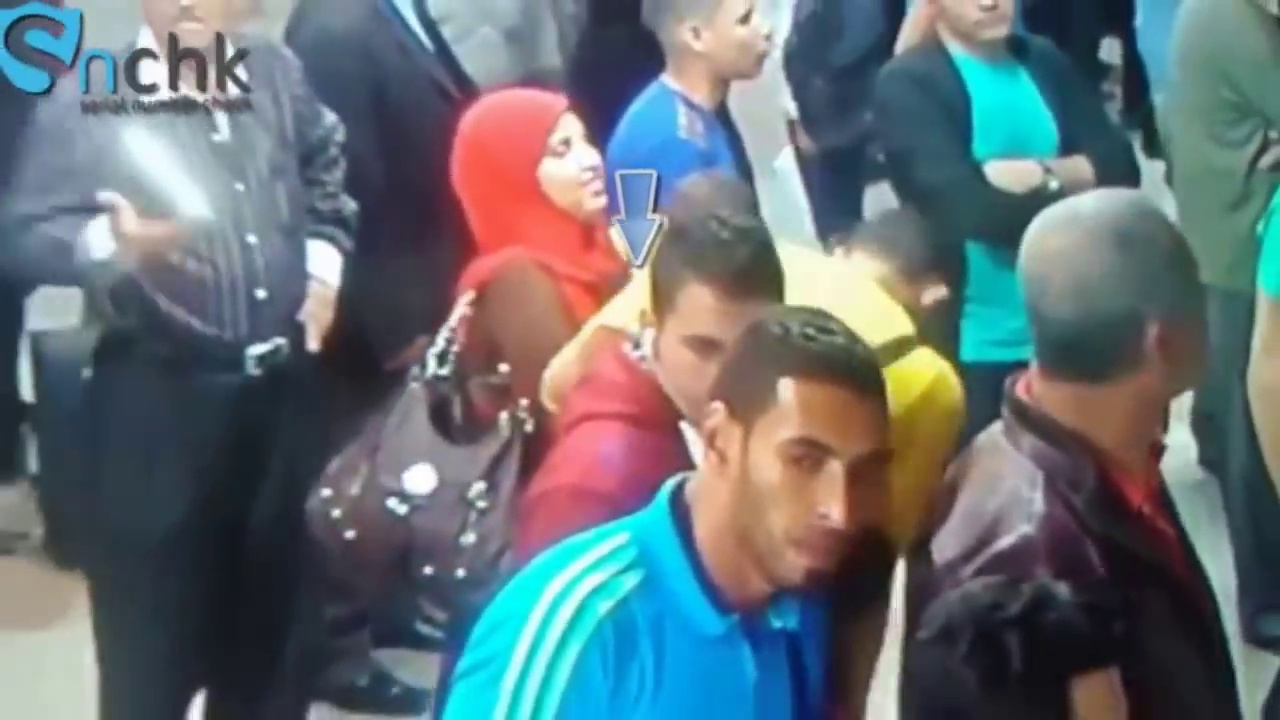face: (746, 389, 880, 590), (658, 287, 729, 421), (538, 121, 612, 215), (710, 2, 777, 83)
